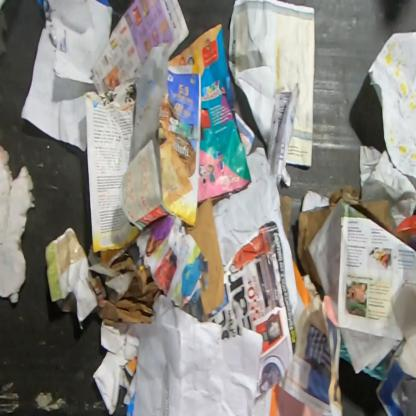cardboard: (296, 183, 410, 293), (87, 243, 163, 324), (0, 143, 36, 304), (374, 277, 415, 415), (185, 195, 225, 317), (301, 189, 330, 212), (279, 193, 292, 242), (395, 214, 415, 240)
